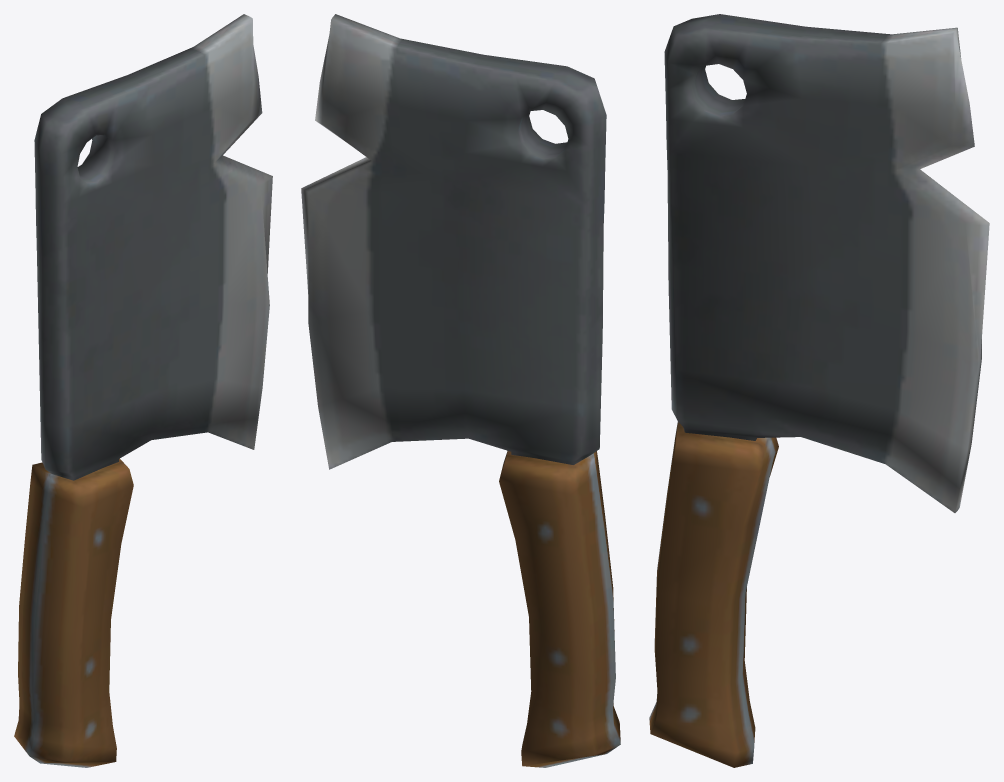
Rendered from cleaver.glb.
3 renders of one model, left to right at view 1: azimuth 30°, elevation 25°; view 2: azimuth 150°, elevation 25°; view 3: azimuth 330°, elevation 25°, orthographic. The views are drawn at different scales.
Visible parts, largest first — view 1: SubMesh_0.101; view 2: SubMesh_0.101; view 3: SubMesh_0.101.
Boxes of the visible parts, x1,y1,x2,y2 form: SubMesh_0.101: [14, 14, 272, 767]; SubMesh_0.101: [301, 14, 620, 767]; SubMesh_0.101: [649, 14, 989, 767].
Size of the model in its own units: 0.3172 by 0.7623 by 0.1038.
1 material, 1 textured.
